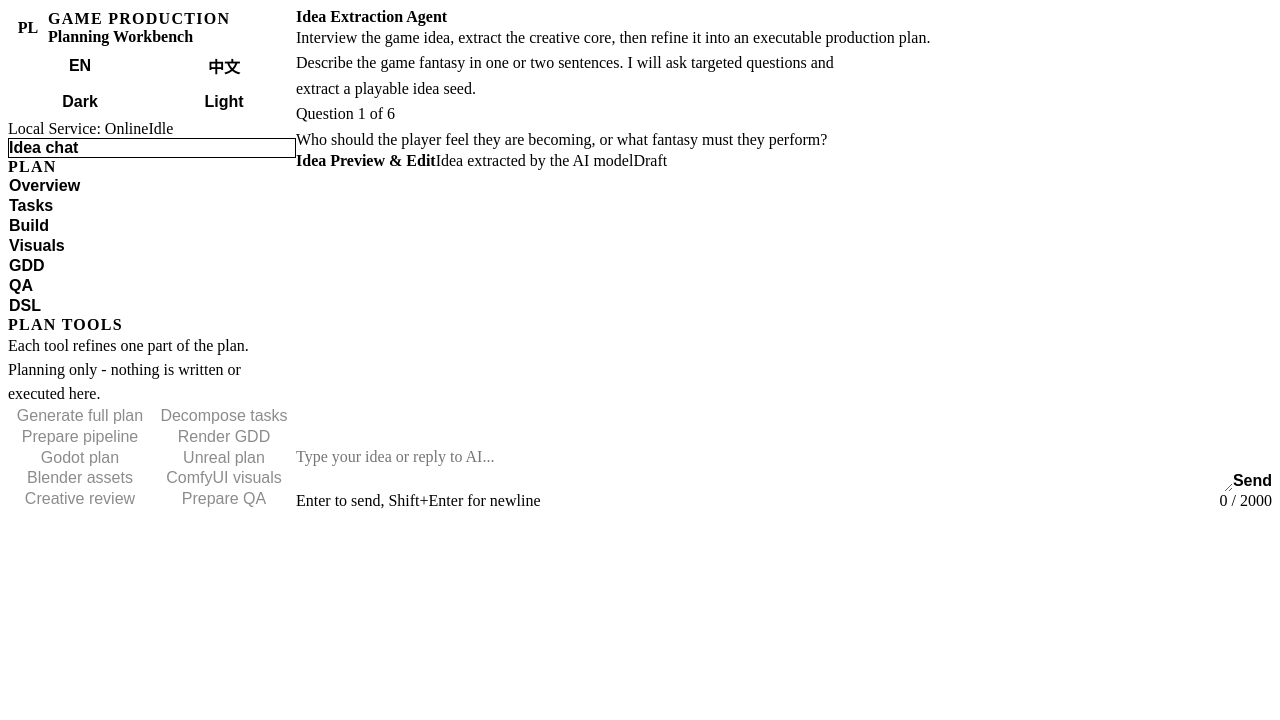
Test case: planning workbench interview › treats the first message as the idea and the next ones as answers
The image size is (1280, 720).
Type "rooftop parkour courier" into the text box with placeholder "Type your idea or reply to AI..." at coordinates (764, 470), box [296,448,1233,492]
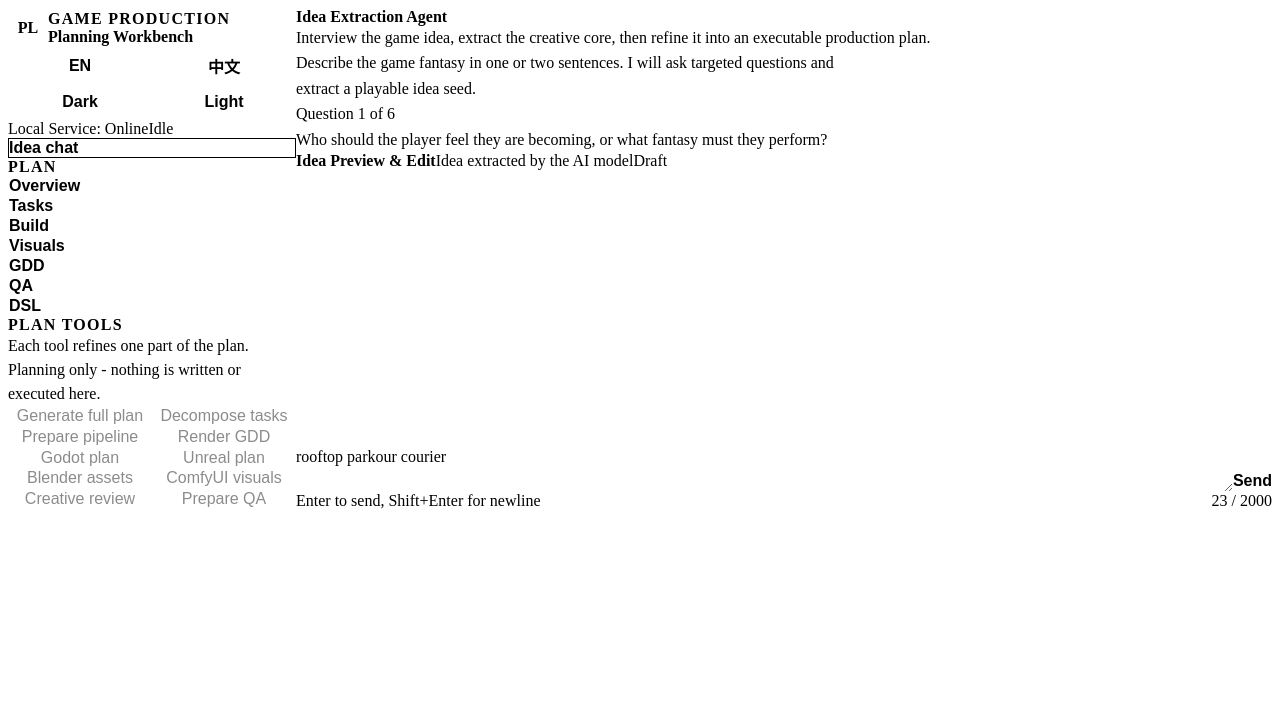
Click the button "Send" at coordinates (1252, 482), box [1233,471,1272,492]
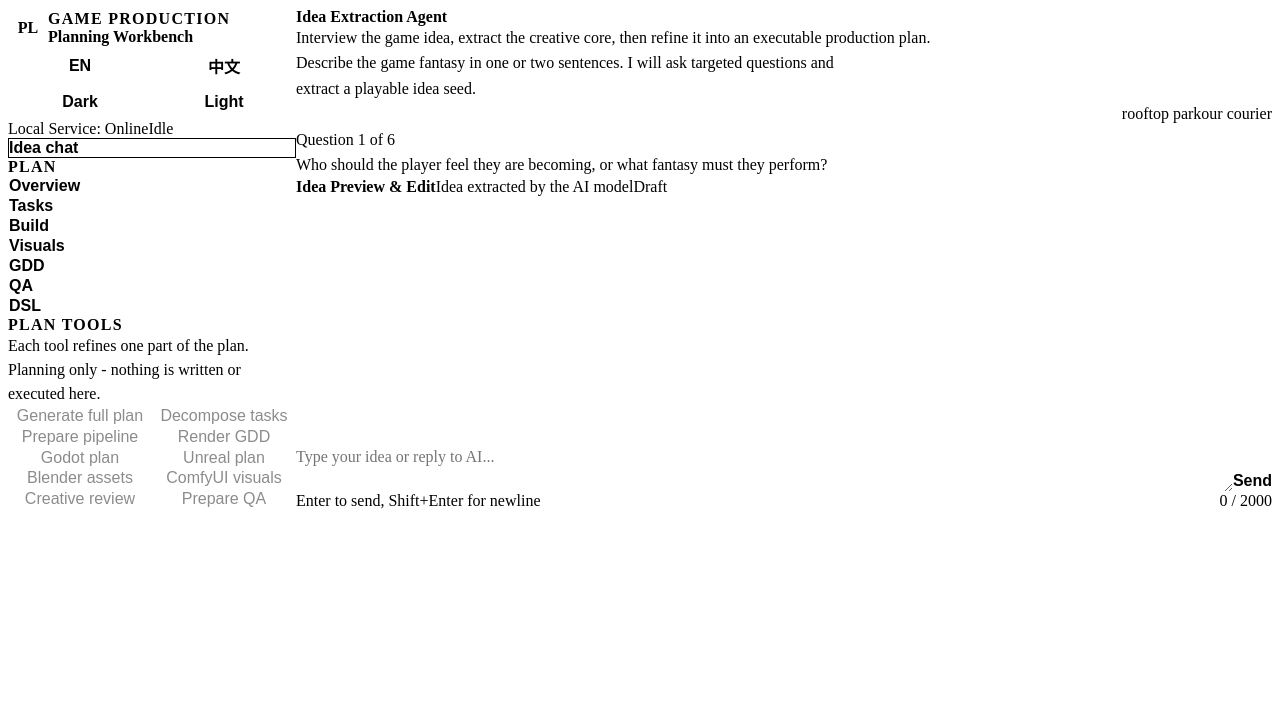
Type "a courier" into the text box with placeholder "Type your idea or reply to AI..." at coordinates (764, 470), box [296,448,1233,492]
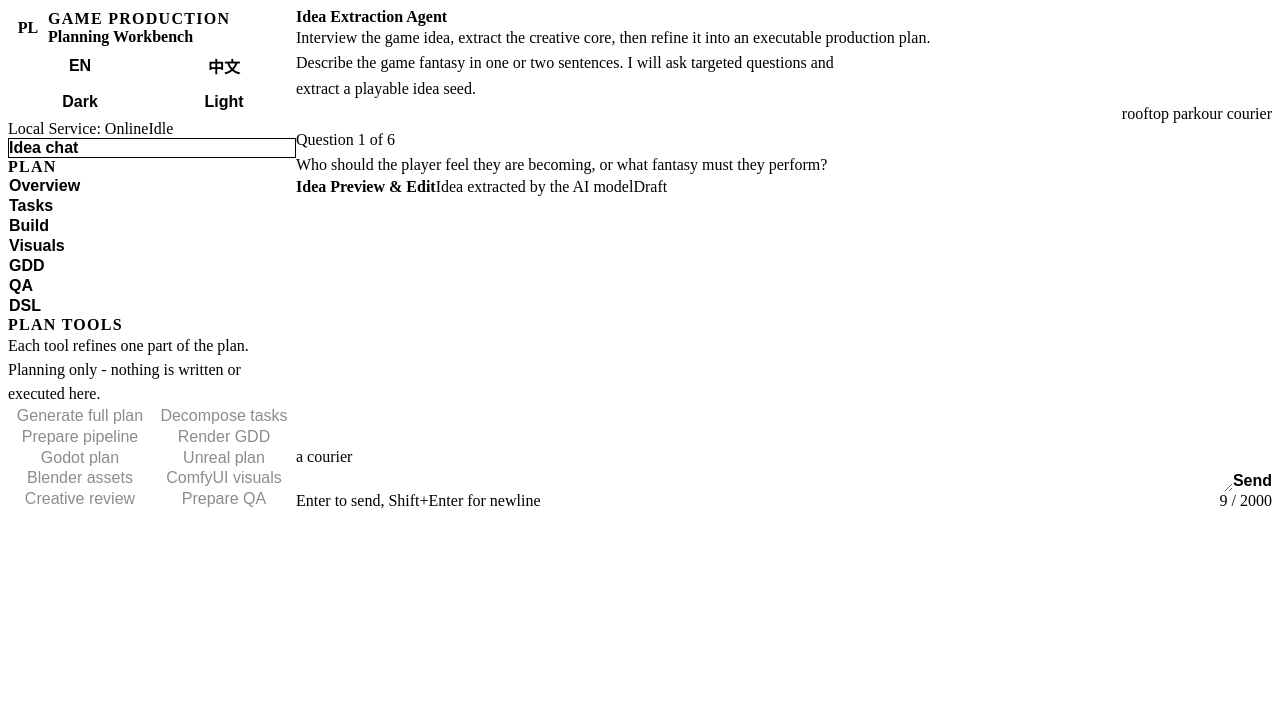
Click the button "Send" at coordinates (1252, 482), box [1233,471,1272,492]
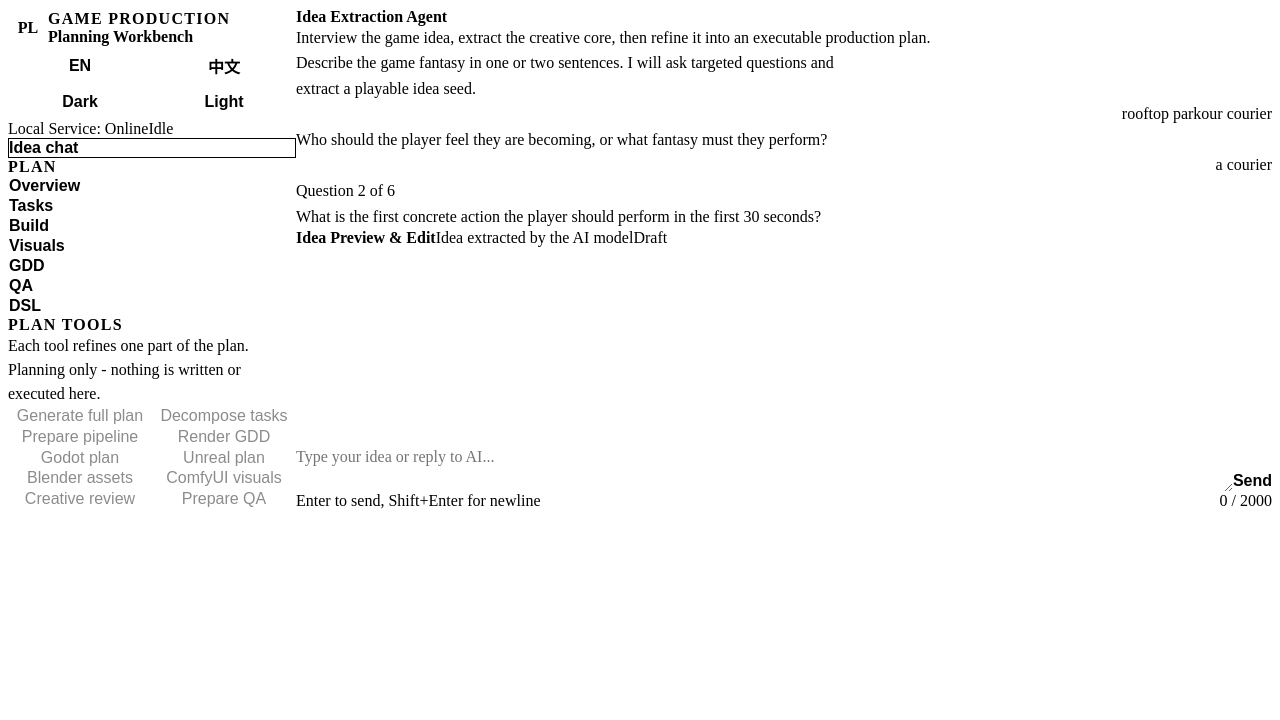
Type "wall-run" into the text box with placeholder "Type your idea or reply to AI..." at coordinates (764, 470), box [296,448,1233,492]
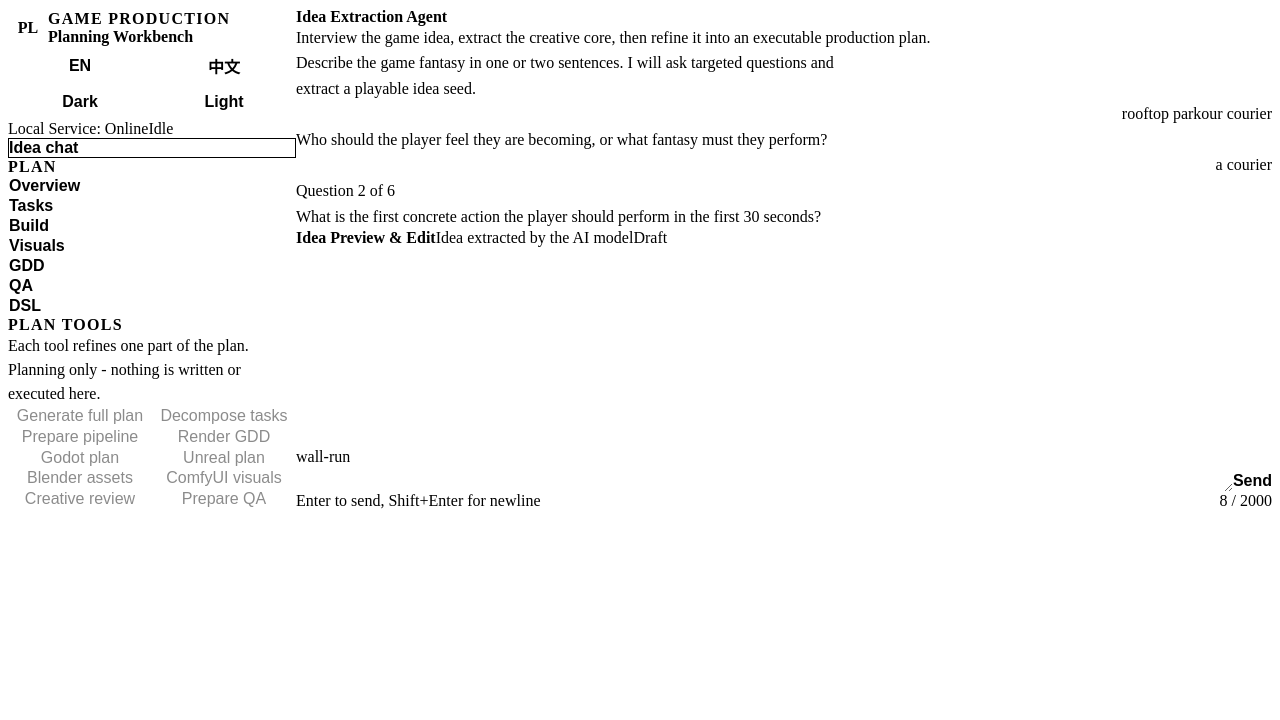
Click the button "Send" at coordinates (1252, 482), box [1233,471,1272,492]
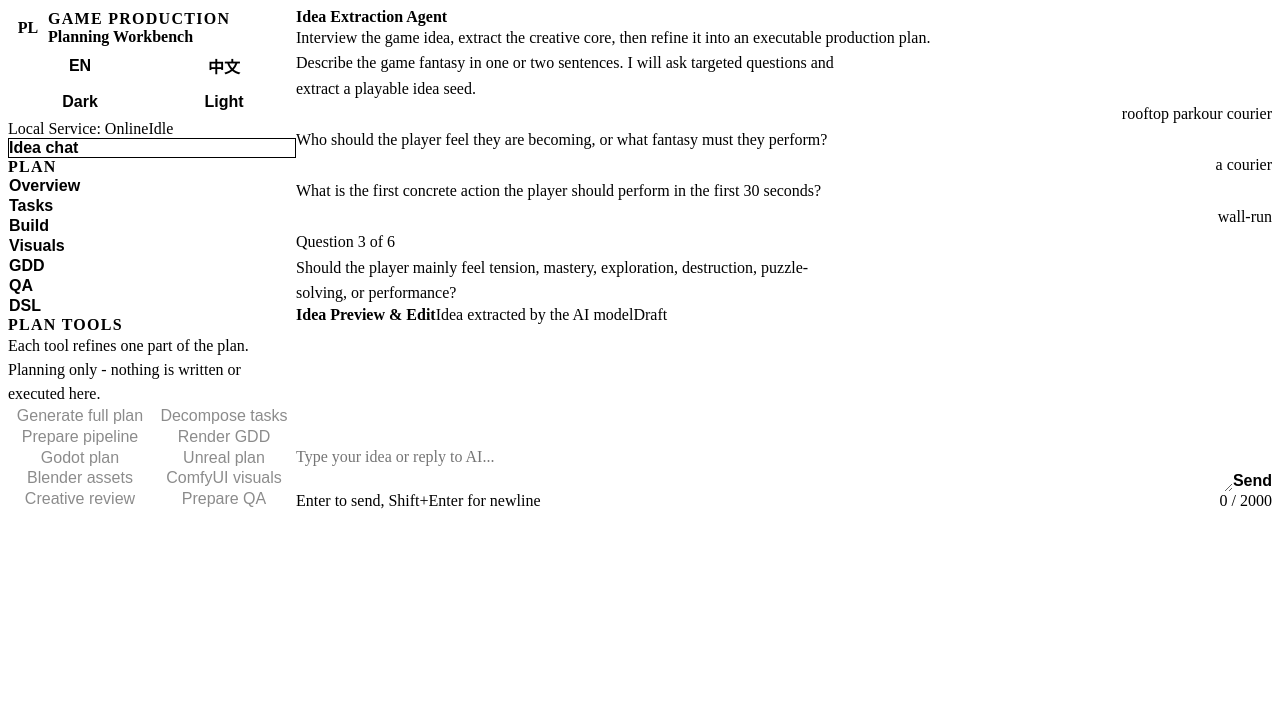
Check: the element with test id "discovery-thread" shows "rooftop parkour courier", box [1122,105,1272,122]
Check: the element with test id "discovery-thread" shows "a courier", box [1216,156,1272,173]
Check: the element with test id "discovery-thread" shows "wall-run", box [1218,208,1272,225]
